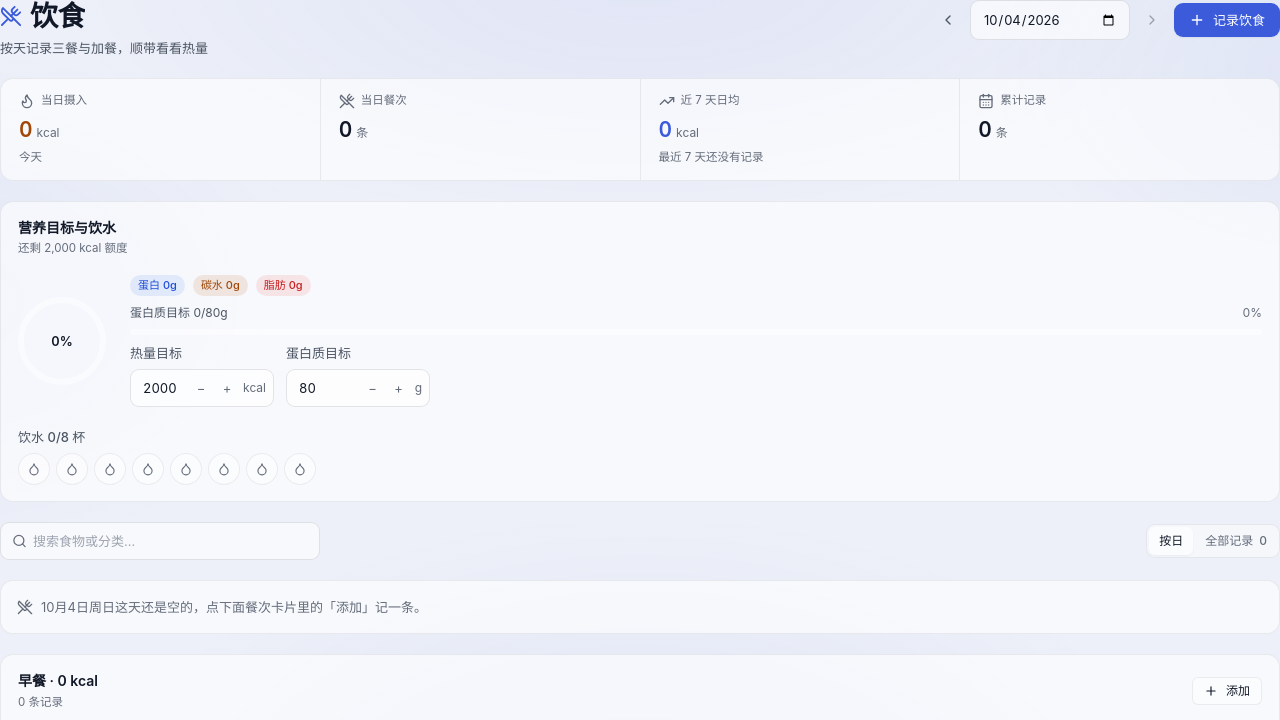
Scenario: DietPage › 记录饮食弹窗里在食物名称按回车直接保存（U7 尾巴）
This screenshot has width=1280, height=720.
Click the button "记录饮食". click: (1227, 20)
box: [1174, 3, 1279, 37]
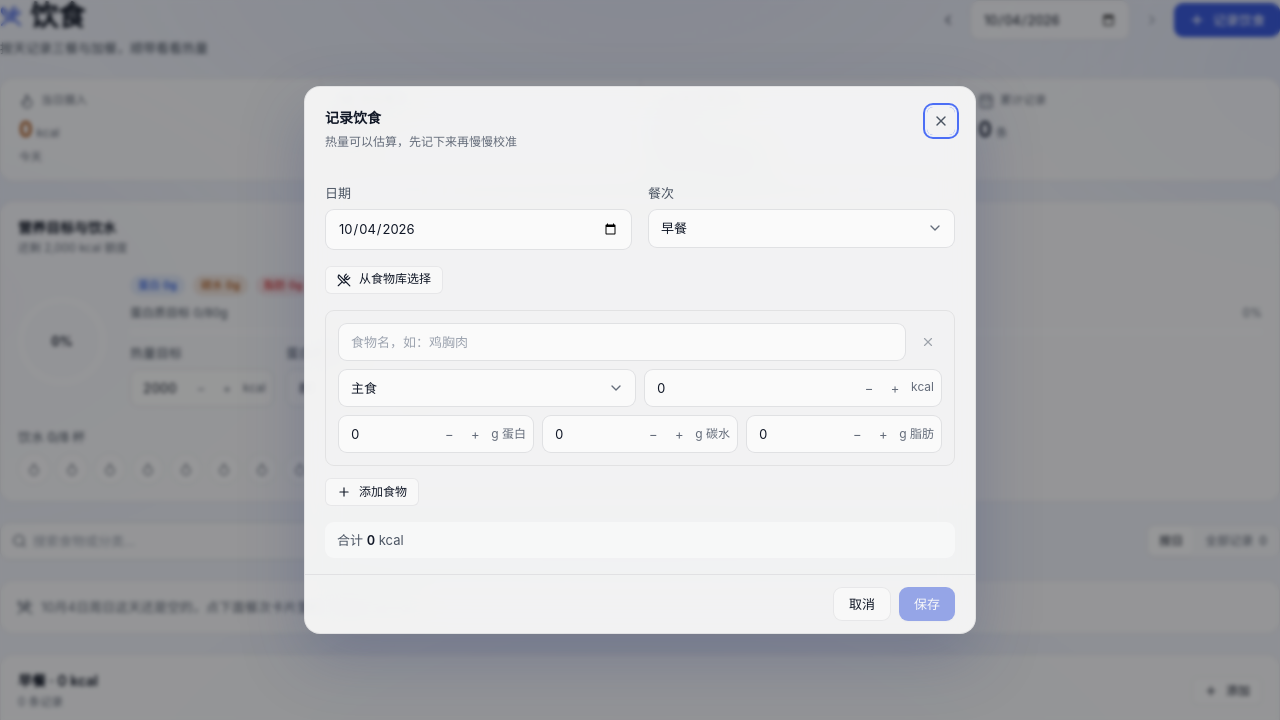
Type "鸡胸肉" into the field named "第 1 个食物名称". click: (622, 342)
box: [338, 322, 906, 361]
Then press Enter
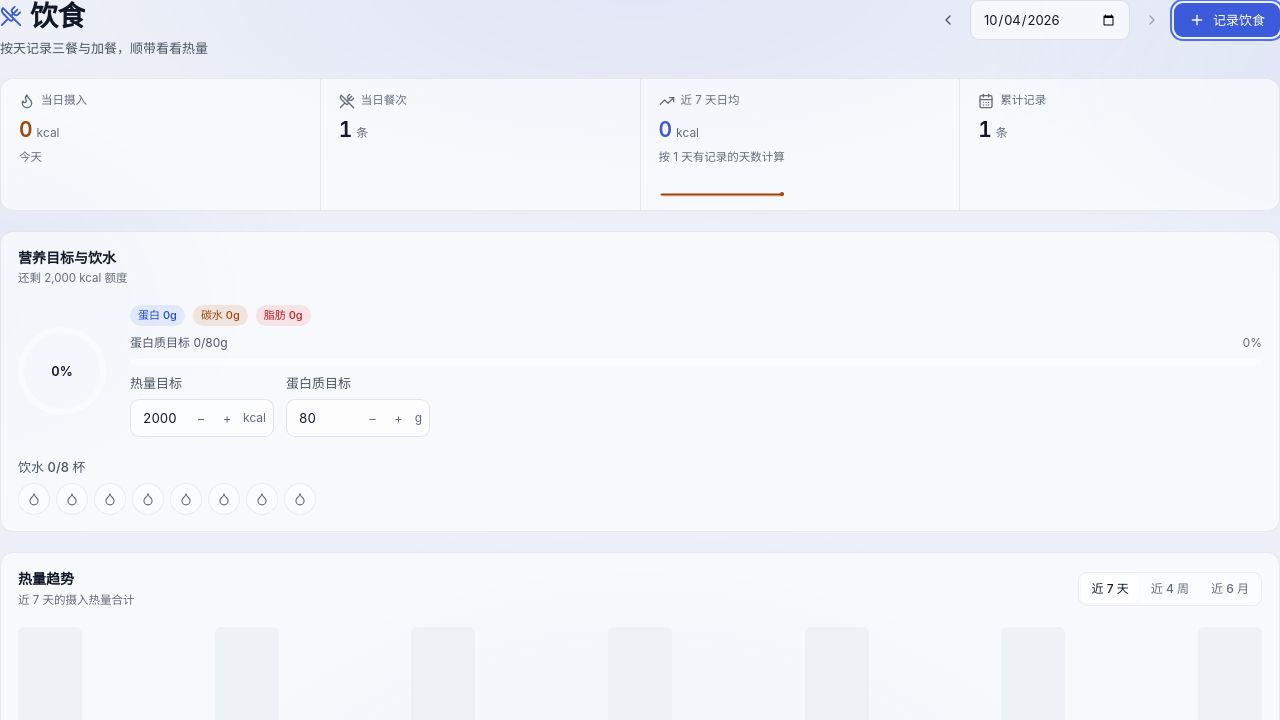
Result: the dialog is gone
